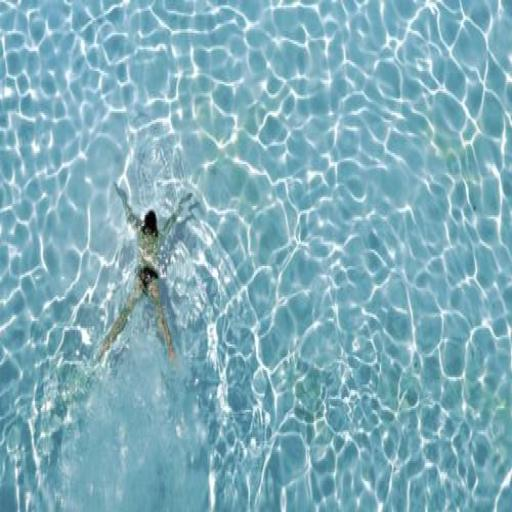swimming: (93, 177, 194, 375)
